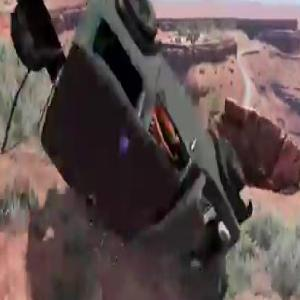severe: (8, 0, 253, 279)
